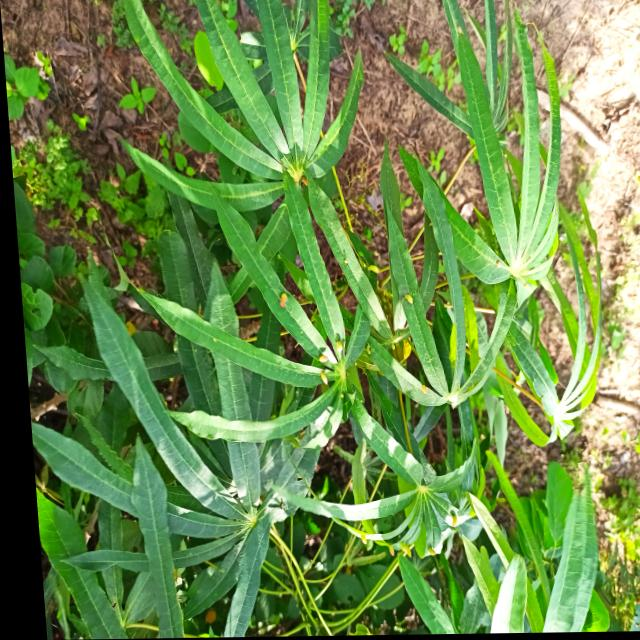Mosca: (310, 343, 335, 370), (275, 287, 292, 315), (360, 261, 386, 277), (448, 505, 463, 528), (319, 370, 334, 390), (381, 540, 394, 562), (401, 538, 412, 561), (417, 376, 429, 397), (401, 291, 417, 306), (336, 333, 346, 353)
